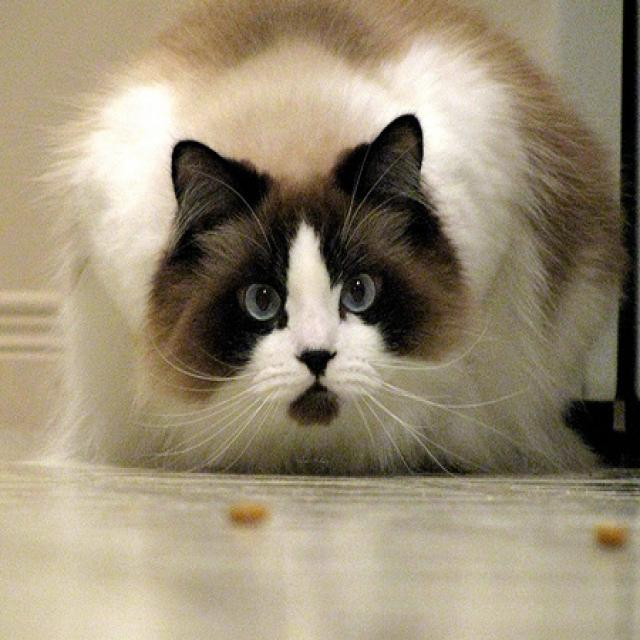Ragdoll: (50, 0, 626, 485)
